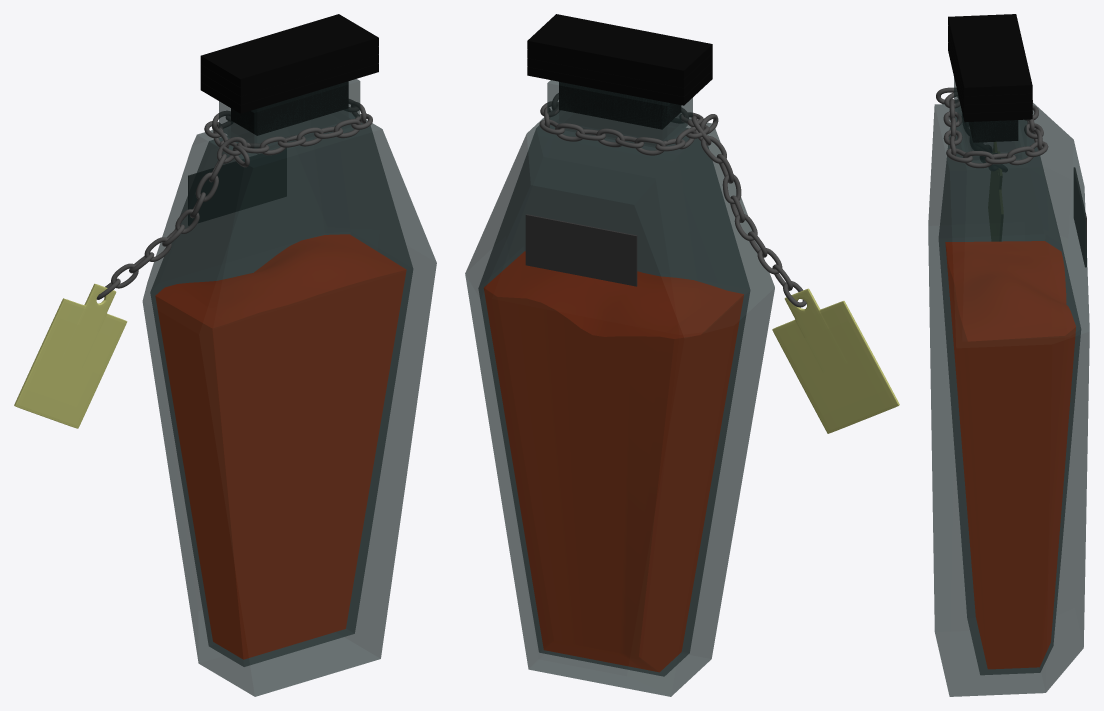
The model's file is blood.fbx.
3 renders of one model, left to right at view 1: azimuth 30°, elevation 25°; view 2: azimuth 150°, elevation 25°; view 3: azimuth 270°, elevation 25°, orthographic.
Visible parts, largest first — view 1: BézierCircle; view 2: BézierCircle; view 3: BézierCircle.
Part boxes in pixels (bbox=[...]): BézierCircle: bbox=[14, 14, 436, 696]; BézierCircle: bbox=[465, 14, 899, 696]; BézierCircle: bbox=[928, 14, 1089, 696].
Size of the model in its own units: 17.75 by 25.7 by 6.16.
